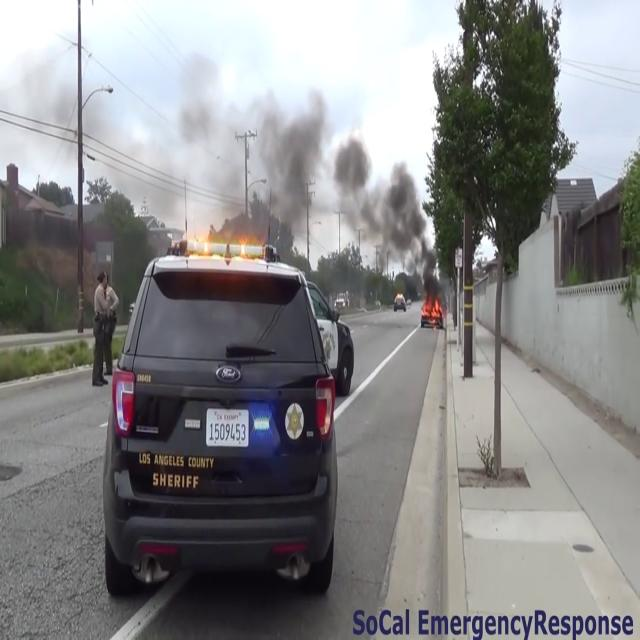Fire: (180, 228, 270, 270), (422, 290, 444, 327)
Smoke: (138, 42, 431, 242)
